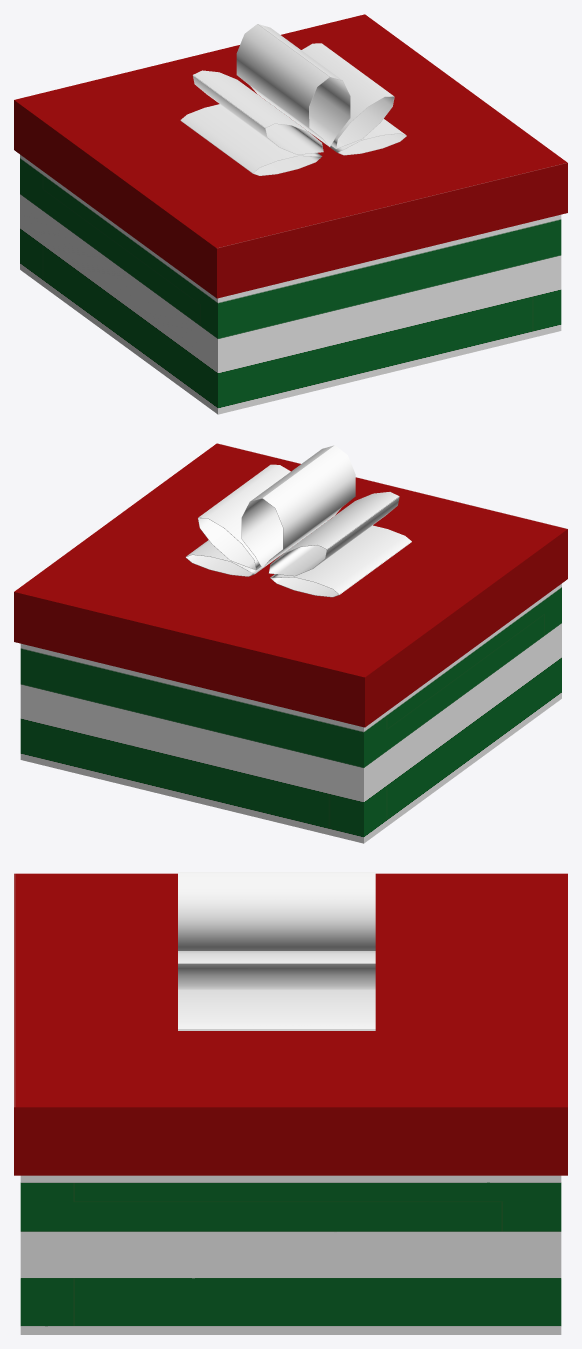
The model's file is present_skinny_striped_ver3.fbx.
3 views of the same model, one above another, from view 1: azimuth 30°, elevation 25°; view 2: azimuth 150°, elevation 25°; view 3: azimuth 270°, elevation 25° (orthographic). The views are drawn at different scales.
Parts seen in each view (by area): view 1: Top, Box; view 2: Top, Box; view 3: Top, Box.
Part boxes in pixels (x1,y1,x2,y2): Top: [14, 14, 567, 298]; Box: [20, 154, 561, 414]; Top: [14, 443, 567, 727]; Box: [20, 583, 561, 843]; Top: [14, 872, 567, 1175]; Box: [20, 1175, 561, 1334].
Size of the model in its own units: 16.76 by 11.6 by 16.78.
